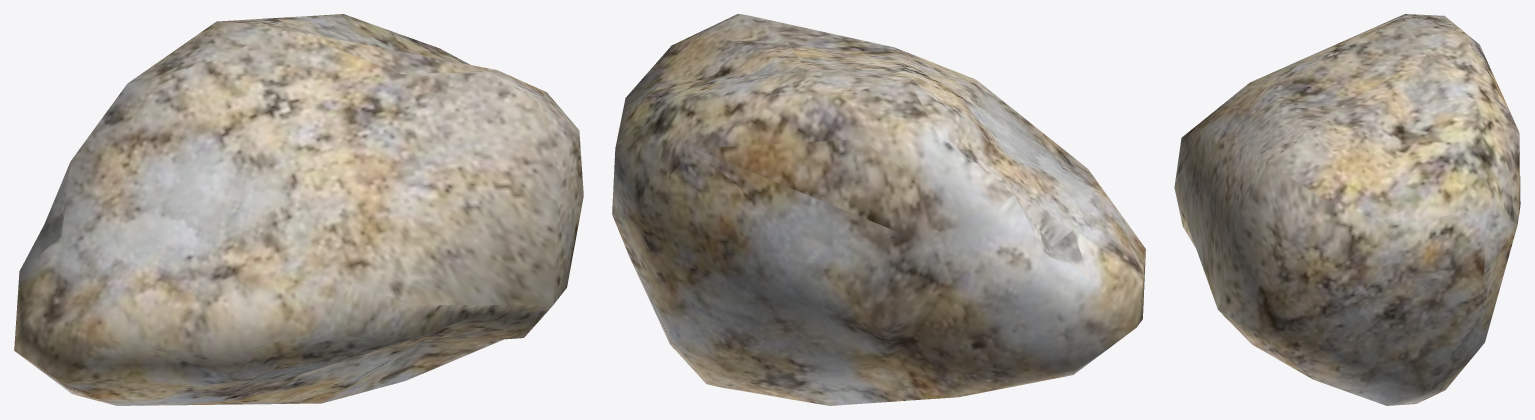
3 views of the same model, side by side, from view 1: azimuth 30°, elevation 25°; view 2: azimuth 150°, elevation 25°; view 3: azimuth 270°, elevation 25° (orthographic). The views are drawn at different scales.
Parts seen in each view (by area): view 1: rock021_lod4; view 2: rock021_lod4; view 3: rock021_lod4.
Part boxes in pixels (left/top/right/bottom): rock021_lod4: left=14, top=14, right=583, bottom=405; rock021_lod4: left=612, top=14, right=1145, bottom=405; rock021_lod4: left=1174, top=14, right=1520, bottom=405.
Size of the model in its own units: 1 by 0.6468 by 0.6539.
1 material, 1 textured.
